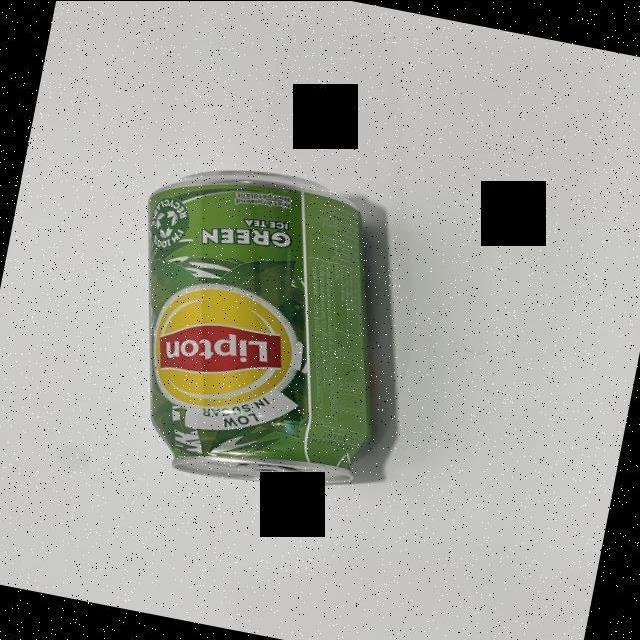can: (148, 169, 379, 486)
